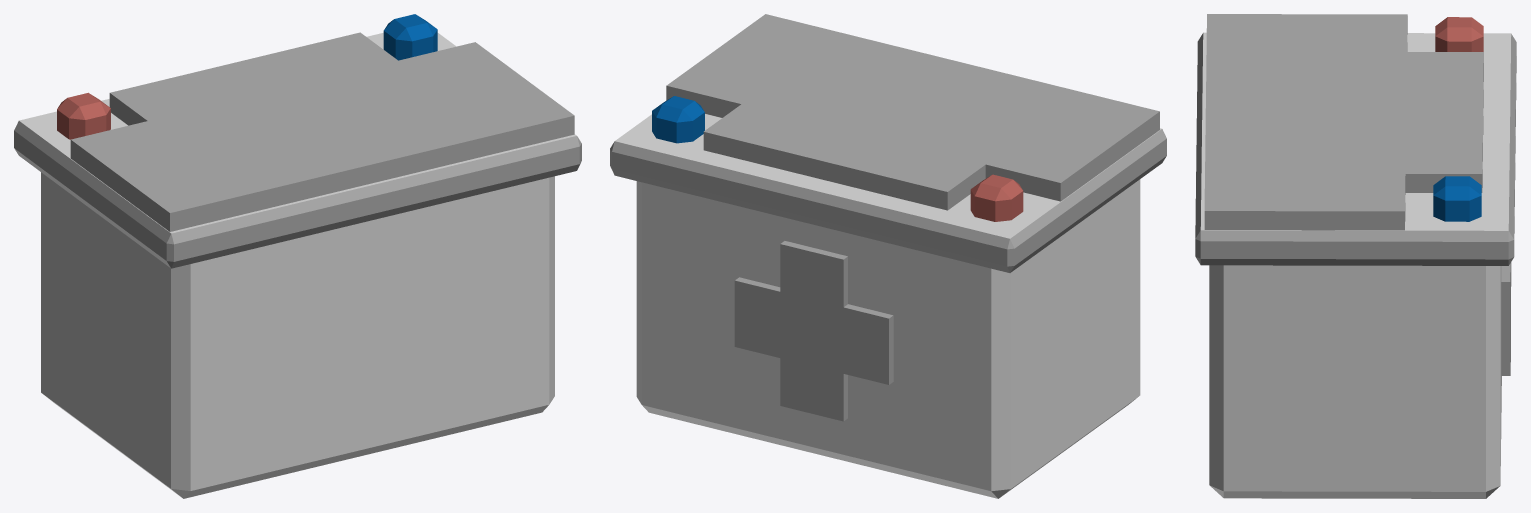
Rendered from Battery.fbx.
3 renders of one model, left to right at view 1: azimuth 30°, elevation 25°; view 2: azimuth 150°, elevation 25°; view 3: azimuth 270°, elevation 25°, orthographic. The views are drawn at different scales.
Parts seen in each view (by area): view 1: Battery; view 2: Battery; view 3: Battery.
Part boxes in pixels (bbox=[...]): Battery: bbox=[14, 14, 581, 498]; Battery: bbox=[610, 14, 1166, 498]; Battery: bbox=[1195, 14, 1516, 498].
Bounding box in the file's own units: 17.33 × 12.35 × 11.61.
